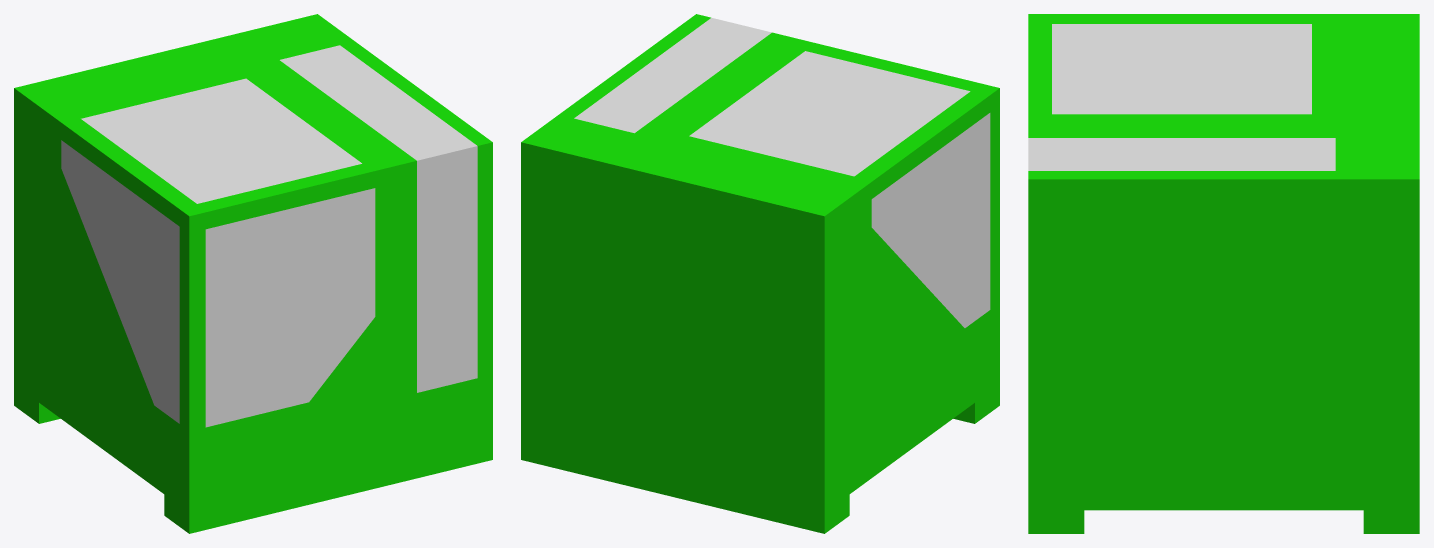
The model's file is PH_3D_PRINT - Copy.fbx.
3 renders of one model, left to right at view 1: azimuth 30°, elevation 25°; view 2: azimuth 150°, elevation 25°; view 3: azimuth 270°, elevation 25°, orthographic. The views are drawn at different scales.
Parts seen in each view (by area): view 1: Cube.007; view 2: Cube.007; view 3: Cube.007.
Part boxes in pixels (<box>): Cube.007: <box>14,14,492,533</box>; Cube.007: <box>521,14,999,533</box>; Cube.007: <box>1028,14,1419,533</box>.
Bounding box in the file's own units: 88.96 × 88.96 × 88.96.
